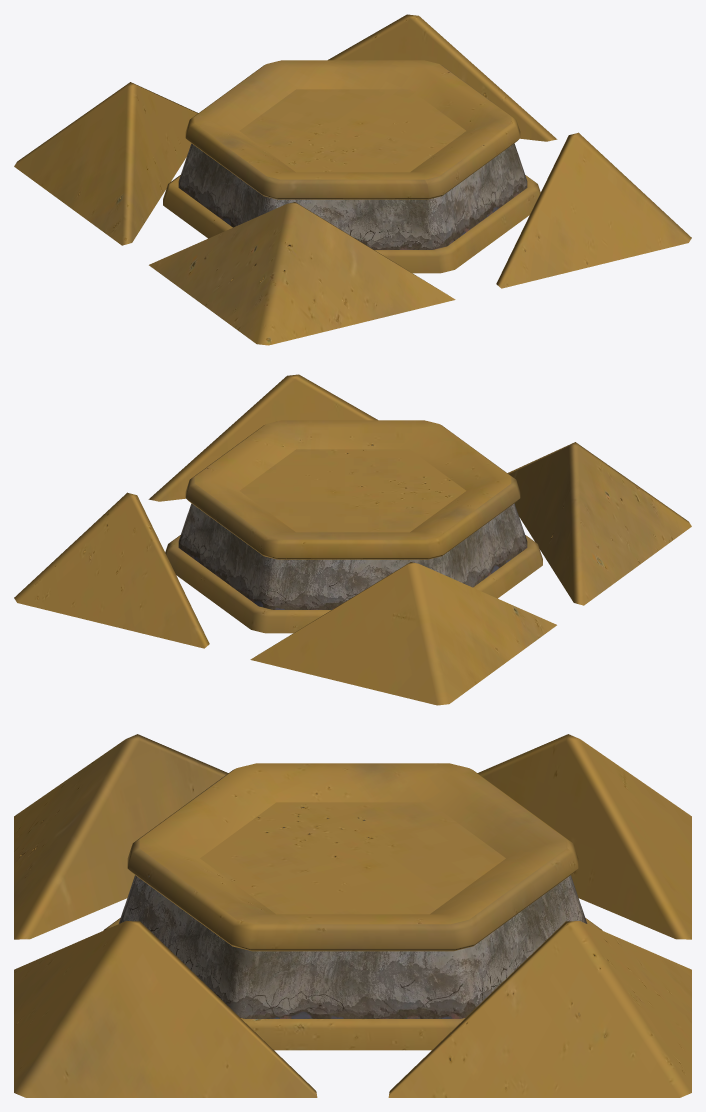
The picture shows the model from 3 angles, top to bottom: view 1: azimuth 30°, elevation 25°; view 2: azimuth 150°, elevation 25°; view 3: azimuth 270°, elevation 25°; orthographic projection. The views are drawn at different scales.
Parts seen in each view (by area): view 1: SM_Vault_Mirror_Top_Column_01_LOD0; view 2: SM_Vault_Mirror_Top_Column_01_LOD0; view 3: SM_Vault_Mirror_Top_Column_01_LOD0.
Boxes of the visible parts, x1=… form: SM_Vault_Mirror_Top_Column_01_LOD0: x1=14, y1=14, x2=691, y2=345; SM_Vault_Mirror_Top_Column_01_LOD0: x1=14, y1=374, x2=691, y2=705; SM_Vault_Mirror_Top_Column_01_LOD0: x1=14, y1=734, x2=691, y2=1097.
Bounding box in the file's own units: 1 × 0.203 × 1.
Materials: 2 (2 with a texture image).
